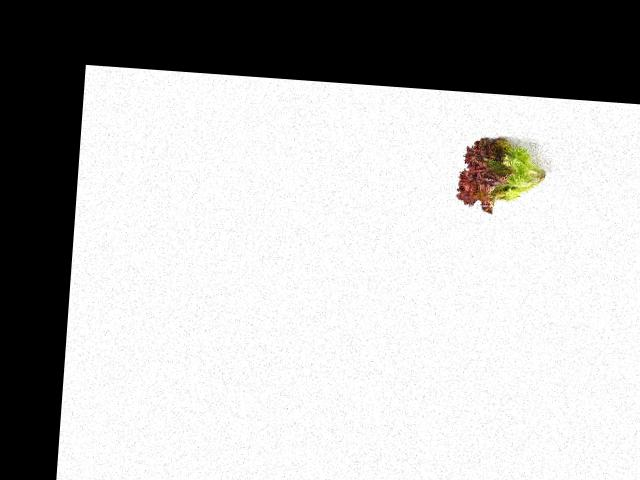lettuce: (451, 132, 559, 216)
